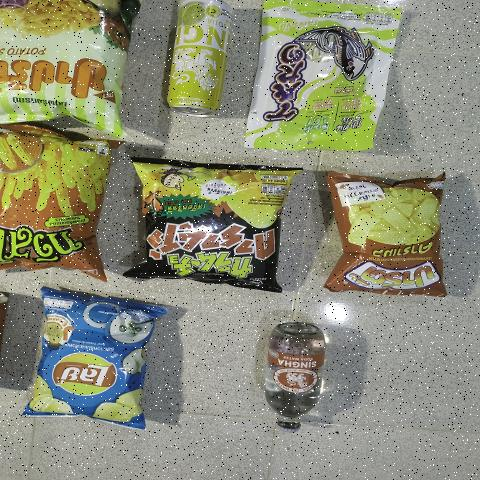karamujo: (151, 160, 273, 288)
lay_blue: (19, 308, 159, 423)
paprika: (0, 0, 125, 128)
party_red: (337, 180, 445, 290)
singha_soda: (264, 318, 344, 438)
singha_yellow: (161, 0, 228, 113)
taro_yellow: (239, 5, 410, 154)
twisco: (0, 140, 99, 274)
